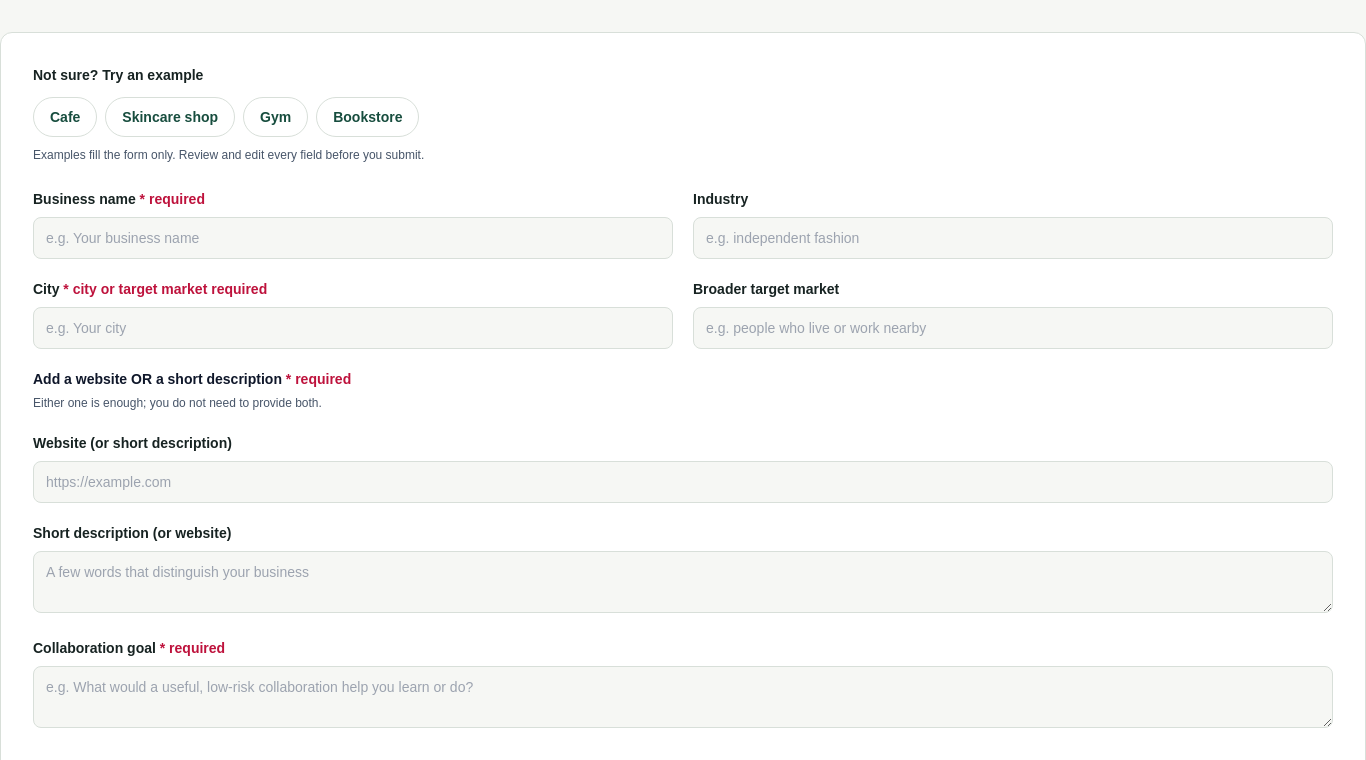
business brief form › fills every field from the Cafe example without submitting
The width and height of the screenshot is (1366, 760).
Click the button "Cafe" at (65, 117), box [33,97,97,137]
(page scrolled)
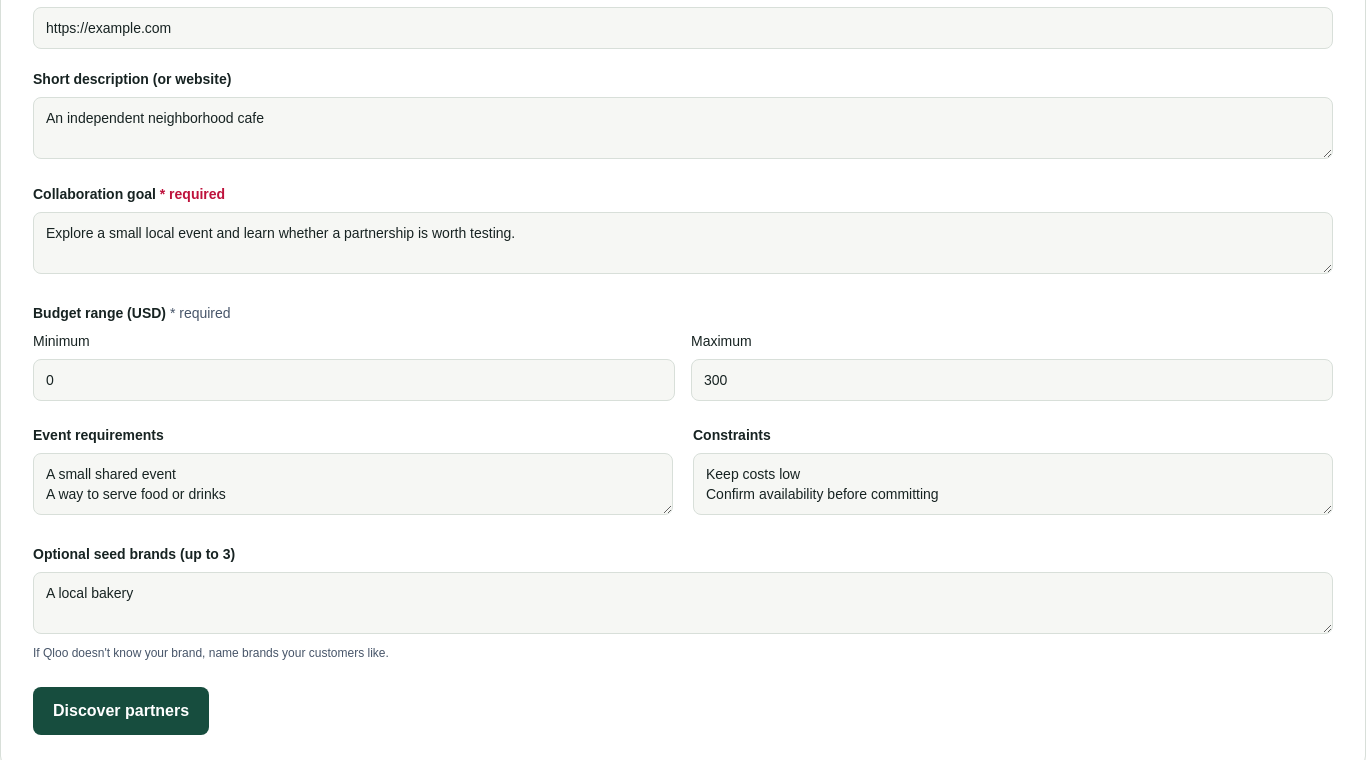
Expected: the field labelled "Website (or short description)" holds "https://example.com", [33,7,1333,49]
Expected: the text box labelled "Short description (or website)" holds "An independent neighborhood cafe", [33,97,1333,159]
Expected: the text box labelled "Collaboration goal * required" holds "Explore a small local event and learn whether a partnership is worth testing.", [33,212,1333,274]
